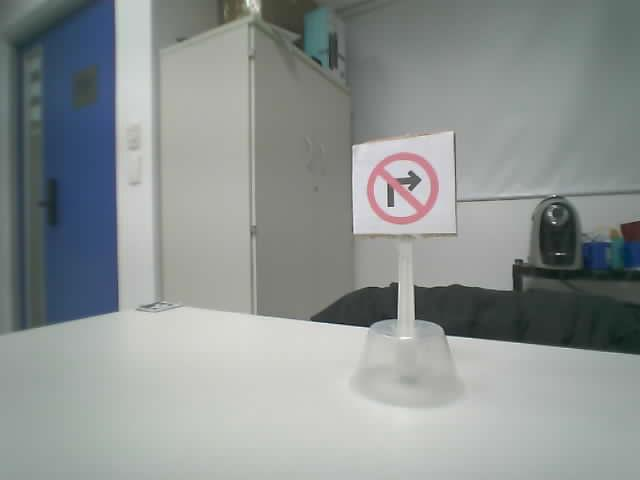R-4b_proibido-direita: (366, 151, 439, 225)
